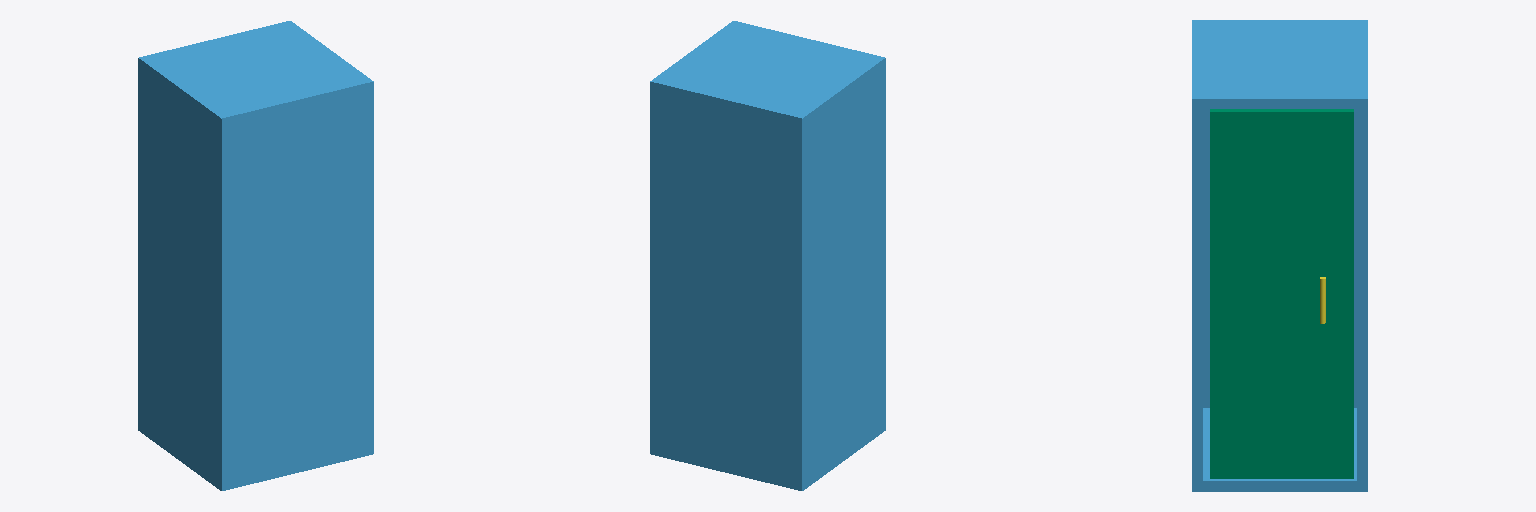
The robot description file, URDF, robot "my_cabinet":
<?xml version="1.0" ?>
<robot name="my_cabinet">
	<link name="world"/>
	<joint name="virtual_joint" type="fixed">
		<parent link="world"/>
		<child link="base_cabinet_link"/>
		<origin xyz="0.0 0.0 0.0" rpy="0.0 0.0 0.0"/>
	</joint>
	<link name="base_cabinet_link">
		<visual>
			<origin xyz="0.0 -0.0025 -0.3420877905736217" rpy="0.0 0.0 0.0"/>
			<geometry>
				<box size="0.3 0.2843801201455124 0.018"/>
			</geometry>
		</visual>
		<collision name="base_cabinet_link_collision_0">
			<origin xyz="0.0 -0.0025 -0.3420877905736217" rpy="0.0 0.0 0.0"/>
			<geometry>
				<box size="0.3 0.2843801201455124 0.018"/>
			</geometry>
		</collision>
		<visual>
			<origin xyz="0.0 0.13069006007275621 0.0" rpy="0.0 0.0 0.0"/>
			<geometry>
				<box size="0.3 0.018 0.7021755811472434"/>
			</geometry>
		</visual>
		<collision name="base_cabinet_link_collision_1">
			<origin xyz="0.0 0.13069006007275621 0.0" rpy="0.0 0.0 0.0"/>
			<geometry>
				<box size="0.3 0.018 0.7021755811472434"/>
			</geometry>
		</collision>
		<visual>
			<origin xyz="0.0 -0.13569006007275622 0.0" rpy="0.0 0.0 0.0"/>
			<geometry>
				<box size="0.3 0.018 0.7021755811472434"/>
			</geometry>
		</visual>
		<collision name="base_cabinet_link_collision_2">
			<origin xyz="0.0 -0.13569006007275622 0.0" rpy="0.0 0.0 0.0"/>
			<geometry>
				<box size="0.3 0.018 0.7021755811472434"/>
			</geometry>
		</collision>
		<visual>
			<origin xyz="0.0 -0.0025 0.3420877905736217" rpy="0.0 0.0 0.0"/>
			<geometry>
				<box size="0.3 0.2843801201455124 0.018"/>
			</geometry>
		</visual>
		<collision name="base_cabinet_link_collision_3">
			<origin xyz="0.0 -0.0025 0.3420877905736217" rpy="0.0 0.0 0.0"/>
			<geometry>
				<box size="0.3 0.2843801201455124 0.018"/>
			</geometry>
		</collision>
		<visual>
			<origin xyz="-0.141 -0.0025 0.0" rpy="0.0 0.0 0.0"/>
			<geometry>
				<box size="0.018 0.2843801201455124 0.7021755811472434"/>
			</geometry>
		</visual>
		<collision name="base_cabinet_link_collision_4">
			<origin xyz="-0.141 -0.0025 0.0" rpy="0.0 0.0 0.0"/>
			<geometry>
				<box size="0.018 0.2843801201455124 0.7021755811472434"/>
			</geometry>
		</collision>
		<inertial>
			<mass value="0.200000"/>
			<inertia ixx="0.009565" ixy="0.0" ixz="0.0" iyy="0.009718" iyz="0.0" izz="0.002848"/>
		</inertial>
	</link>
	<link name="door_link">
		<visual>
			<origin xyz="0.0 -0.1166900600727562 0.0"/>
			<geometry>
				<box size="0.018 0.2333801201455124 0.6561755811472434"/>
			</geometry>
		</visual>
		<collision name="door_link_collision">
			<origin xyz="0.0 -0.1166900600727562 0.0"/>
			<geometry>
				<box size="0.018 0.2333801201455124 0.6561755811472434"/>
			</geometry>
		</collision>
		<inertial>
			<mass value="0.200000"/>
			<inertia ixx="0.008084" ixy="0.0" ixz="0.0" iyy="0.007182" iyz="0.0" izz="0.000913"/>
		</inertial>
	</link>
	<joint name="door_joint" type="revolute">
		<origin xyz="0.141 -0.1166900600727562 0.0" rpy="0.000000 -0.000000 3.141593"/>
		<axis xyz="0 0 1"/>
		<parent link="base_cabinet_link"/>
		<child link="door_link"/>
		<limit effort="50" lower="-1.658062789394613" upper="0" velocity="10"/>
		<dynamics friction="3.5" damping="3.5"/>
	</joint>
	<link name="handle_link">
		<visual>
			<origin xyz="0.0 0.0 0.0" rpy="0.0 0.0 0.0"/>
			<geometry>
				<cylinder length="0.08" radius="0.005"/>
			</geometry>
		</visual>
		<collision name="handle_link_collision_0">
			<origin xyz="0.0 0.0 0.0" rpy="0.0 0.0 0.0"/>
			<geometry>
				<cylinder length="0.08" radius="0.005"/>
			</geometry>
		</collision>
		<visual>
			<origin xyz="-0.01 0.0 0.02" rpy="0.0 1.5707963267948966 0.0"/>
			<geometry>
				<cylinder length="0.02" radius="0.003"/>
			</geometry>
		</visual>
		<collision name="handle_link_collision_1">
			<origin xyz="-0.01 0.0 0.02" rpy="0.0 1.5707963267948966 0.0"/>
			<geometry>
				<cylinder length="0.01" radius="0.003"/>
			</geometry>
		</collision>
		<visual>
			<origin xyz="-0.01 0.0 -0.02" rpy="0.0 1.5707963267948966 0.0"/>
			<geometry>
				<cylinder length="0.02" radius="0.003"/>
			</geometry>
		</visual>
		<collision name="handle_link_collision_2">
			<origin xyz="-0.01 0.0 -0.02" rpy="0.0 1.5707963267948966 0.0"/>
			<geometry>
				<cylinder length="0.02" radius="0.003"/>
			</geometry>
		</collision>
		<inertial>
			<mass value="0.050000"/>
			<inertia ixx="0.000027" ixy="0.0" ixz="0.0" iyy="0.000029" iyz="0.0" izz="0.000003"/>
		</inertial>
	</link>
	<joint name="handle_joint" type="fixed">
		<origin xyz="-0.028999999999999998 -0.18338012014551242 0.0" rpy="0.000000 -0.000000 3.141593"/>
		<parent link="door_link"/>
		<child link="handle_link"/>
	</joint>
	<gazebo reference="base_cabinet_link">
		<sensor name="main_sensor" type="contact">
			<selfCollide>true</selfCollide>
			<alwaysOn>true</alwaysOn>
			<updateRate>5.0</updateRate>
			<material>Gazebo/Red</material>
			<contact>
				<collision>base_cabinet_link_collision_0_collision</collision>
				<collision>base_cabinet_link_collision_1_collision</collision>
				<collision>base_cabinet_link_collision_2_collision</collision>
				<collision>base_cabinet_link_collision_3_collision</collision>
				<collision>base_cabinet_link_collision_4_collision</collision>
			</contact>
			<plugin name="gazebo_ros_bumper_controller" filename="libgazebo_ros_bumper.so">
				<bumperTopicName>/contact</bumperTopicName>
				<frameName>world</frameName>
			</plugin>
		</sensor>
	</gazebo>
	<gazebo reference="door_link">
		<sensor name="main_sensor" type="contact">
			<selfCollide>true</selfCollide>
			<alwaysOn>true</alwaysOn>
			<updateRate>5.0</updateRate>
			<material>Gazebo/Red</material>
			<contact>
				<collision>door_link_collision_collision</collision>
			</contact>
			<plugin name="gazebo_ros_bumper_controller" filename="libgazebo_ros_bumper.so">
				<bumperTopicName>/contact_door</bumperTopicName>
				<frameName>contact_door</frameName>
			</plugin>
		</sensor>
	</gazebo>
	<gazebo reference="door_link">
		<mu>3.0</mu>
		<mu2>3.0</mu2>
		<kp>10000000</kp>
		<kd>100</kd>
	</gazebo>
</robot>

--- Facts derived from the render (not from the file) ---
3 views of the same robot in one strip: view 1: azimuth 30°, elevation 25°; view 2: azimuth 150°, elevation 25°; view 3: azimuth 270°, elevation 25° (orthographic).
Model my_cabinet with 4 links and 3 joints (1 revolute, 2 fixed), rooted at world, posed every joint at zero.
Links seen in each view (by area): view 1: base_cabinet_link; view 2: base_cabinet_link; view 3: door_link, base_cabinet_link.
Boxes of the visible links, bbox=[...] form: base_cabinet_link: bbox=[138, 21, 373, 490]; base_cabinet_link: bbox=[650, 21, 885, 490]; door_link: bbox=[1210, 109, 1353, 478]; base_cabinet_link: bbox=[1192, 20, 1367, 491].
Bounding box of the posed robot: 0.325 × 0.2844 × 0.7022 m (x, y, z).
Geometry: primitives only (box / cylinder / sphere), no mesh files.
